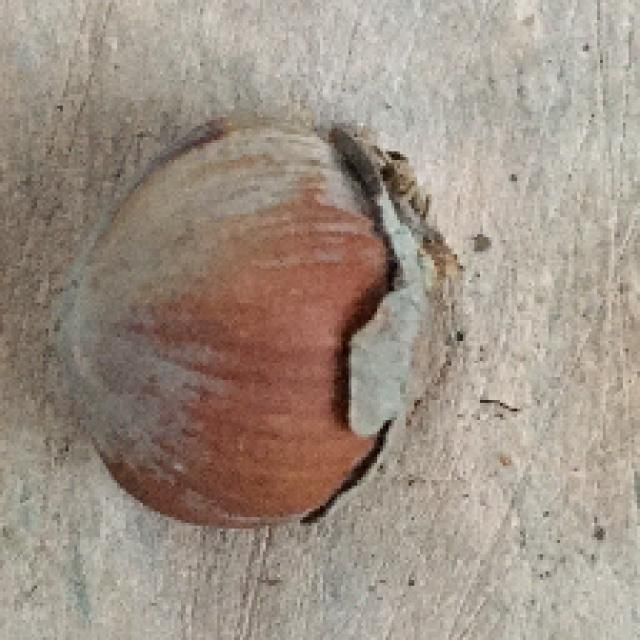damagedHazelnut: (52, 108, 448, 542)
